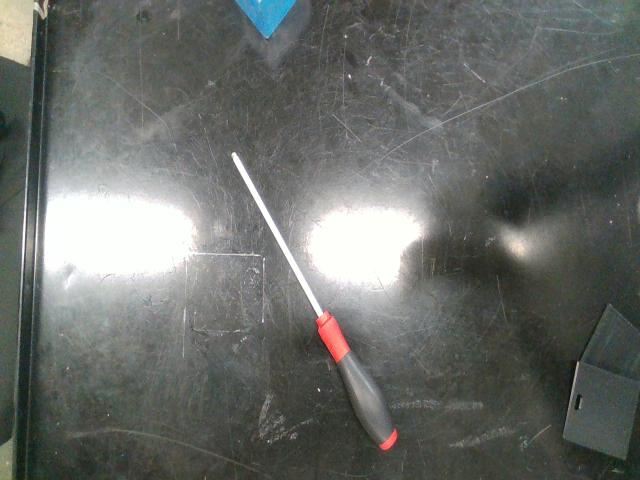Screwdriver: (231, 152, 398, 449)
